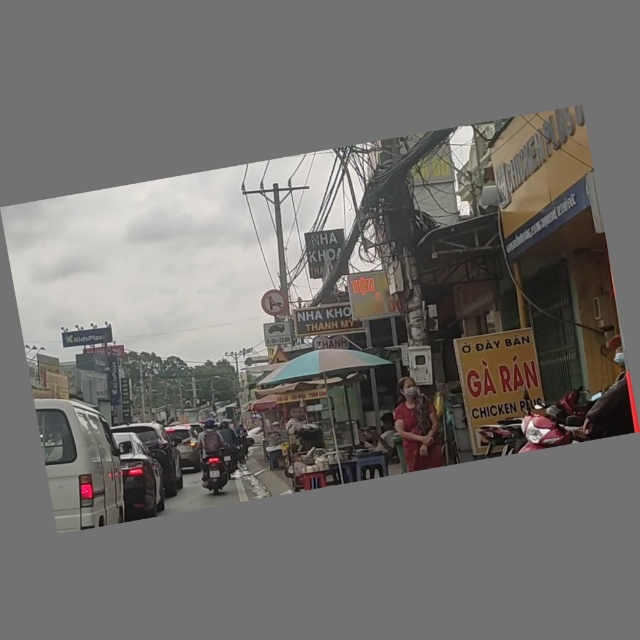P.139: (259, 287, 290, 317)
S.505a*Xe tai: (262, 322, 295, 348)
W.205b: (264, 350, 296, 369)
